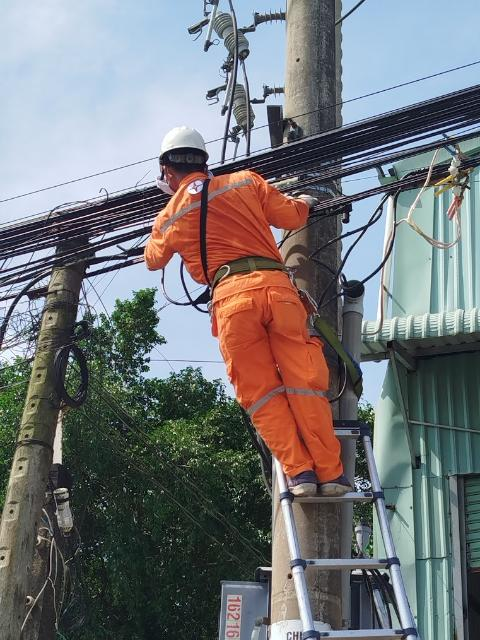gloves: (293, 184, 322, 212)
harness: (185, 250, 299, 285)
helmet: (147, 112, 221, 163)
shoes: (315, 464, 353, 498), (285, 465, 320, 497)
